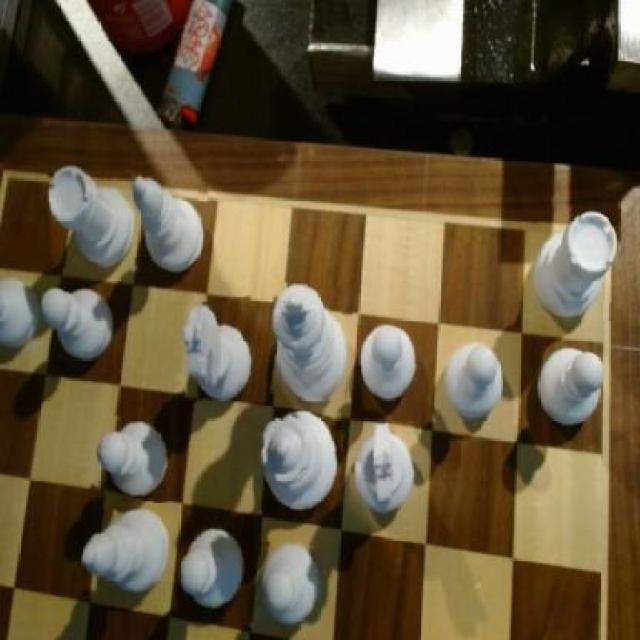black-rook: (83, 510, 169, 604), (131, 170, 208, 268)
white-bishop: (270, 285, 352, 400)
white-king: (181, 298, 257, 402), (356, 422, 416, 518)
white-knight: (91, 415, 172, 501), (180, 526, 246, 616), (42, 286, 118, 363), (257, 543, 323, 628), (542, 346, 604, 429), (357, 324, 418, 406), (445, 338, 502, 422)
white-pawn: (258, 408, 341, 514)
white-queen: (535, 208, 621, 320), (49, 160, 138, 268)
